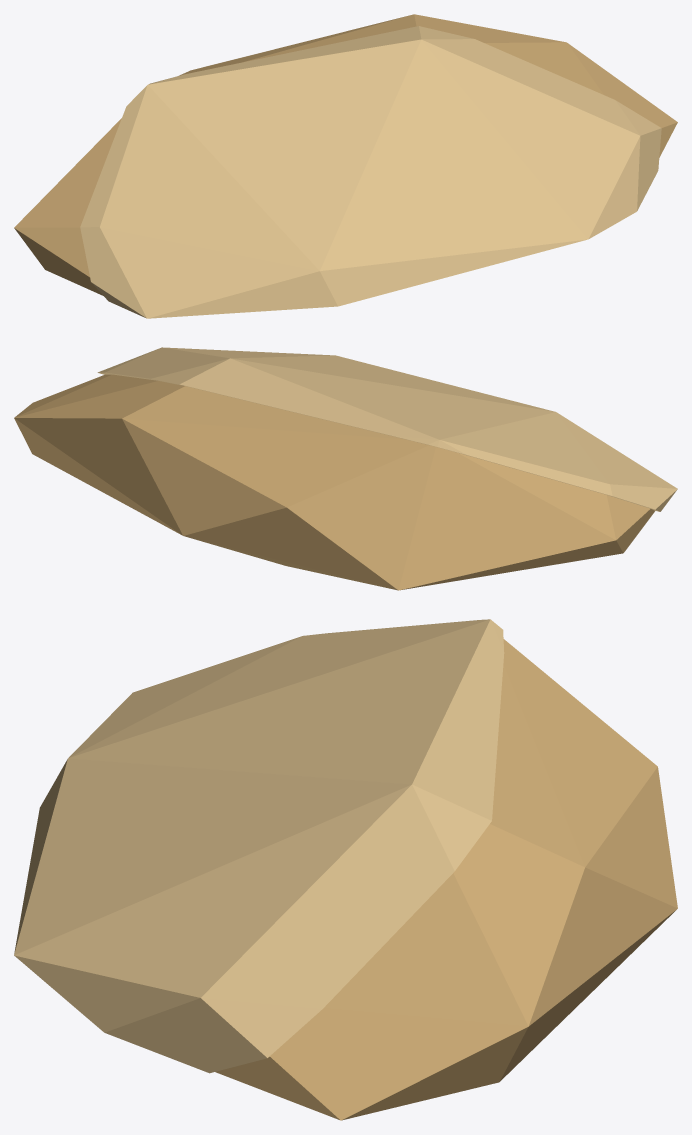
Rendered from Dune.fbx.
The picture shows the model from 3 angles, top to bottom: view 1: azimuth 30°, elevation 25°; view 2: azimuth 150°, elevation 25°; view 3: azimuth 270°, elevation 25°; orthographic projection. The views are drawn at different scales.
Visible parts, largest first — view 1: Crest, Dune; view 2: Dune, Crest; view 3: Crest, Dune.
Part boxes in pixels (x1,y1,x2,y2): Crest: [80, 26, 661, 318]; Dune: [14, 14, 677, 295]; Dune: [14, 374, 654, 590]; Crest: [97, 347, 677, 511]; Crest: [14, 619, 504, 1073]; Dune: [215, 639, 677, 1120].
Size of the model in its own units: 8.43 by 1.53 by 5.3.
